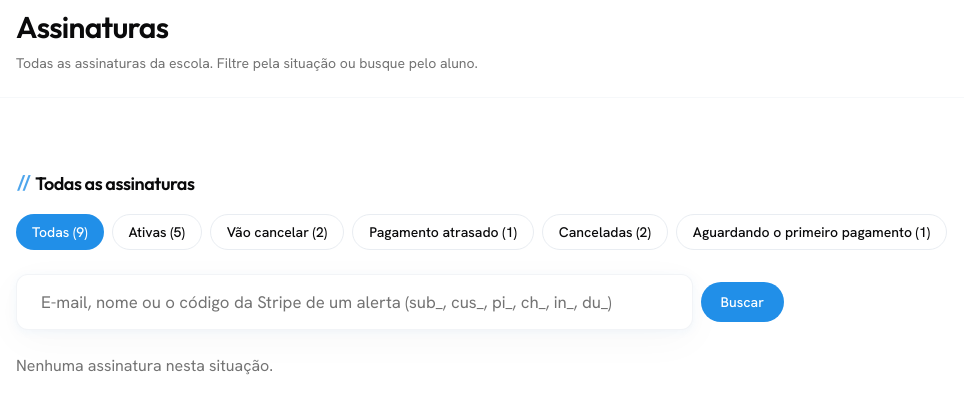
Test case: Cobrança → Assinaturas — os estados › vazio: sem assinaturas na situação; e, com busca, 'nada encontrado' com o que foi buscado
Check: the text "Nenhuma assinatura nesta situação." is shown, box [16,355,273,376]
Replace the text in the field named "Buscar assinaturas" with "zeca". click: (354, 302)
box: [16,274,693,330]
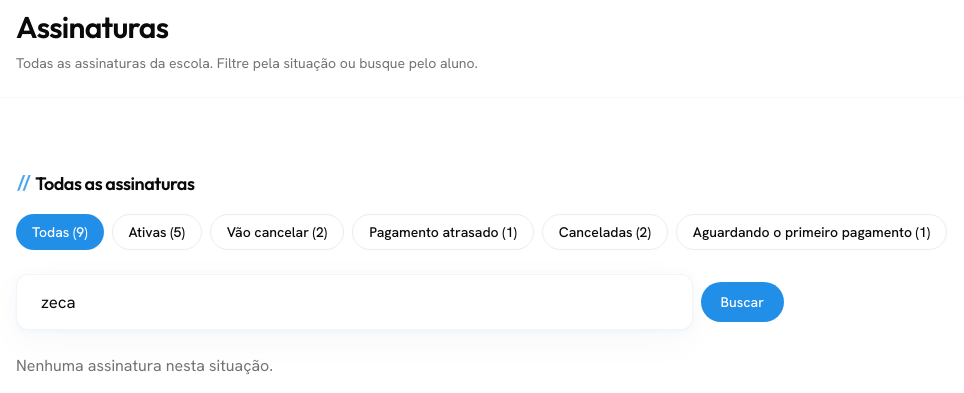
Click the button "Buscar". click: (742, 302)
box: [701,282,784,322]
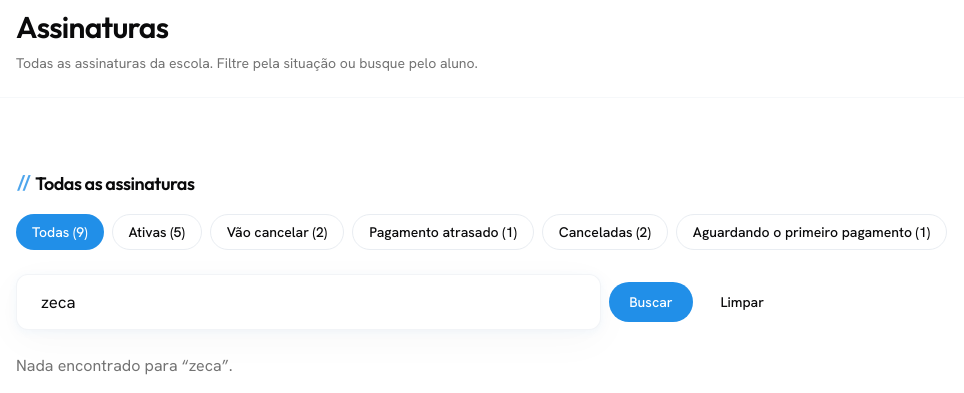
Check: the text "Nada encontrado para “zeca”." is shown, box [16,355,232,376]
